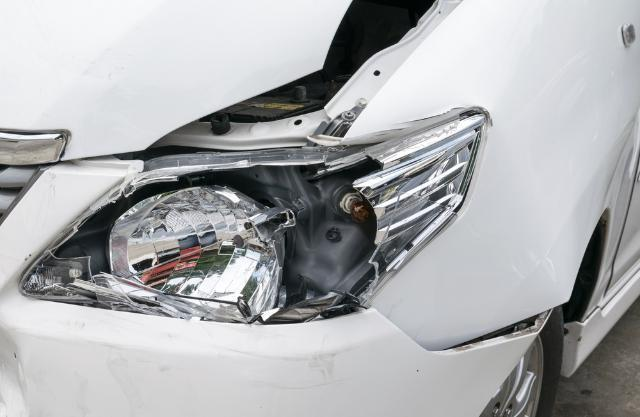dent: (0, 330, 30, 417)
lamp broken: (23, 116, 484, 325)
